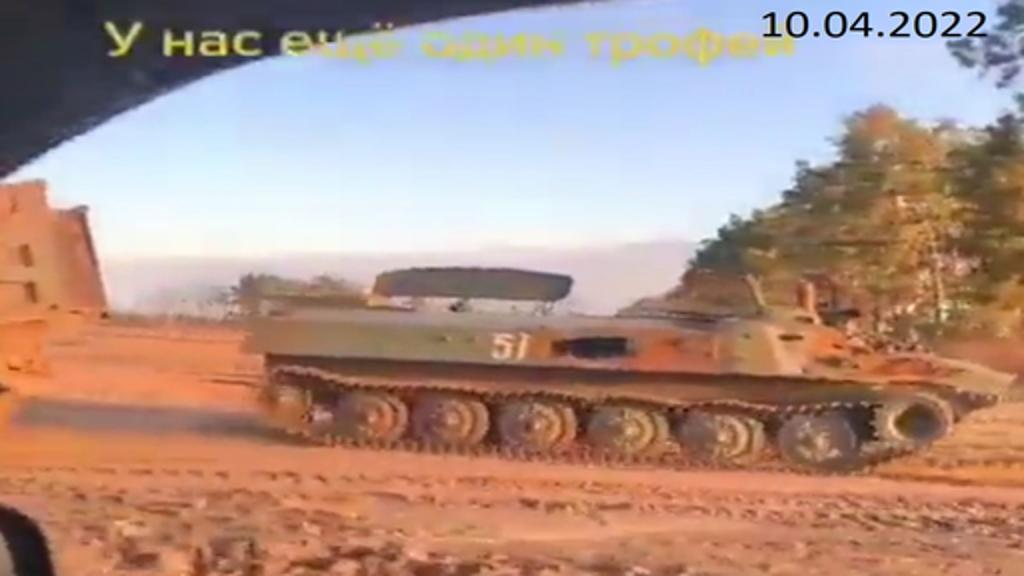APC-IFV: (250, 280, 1006, 462)
